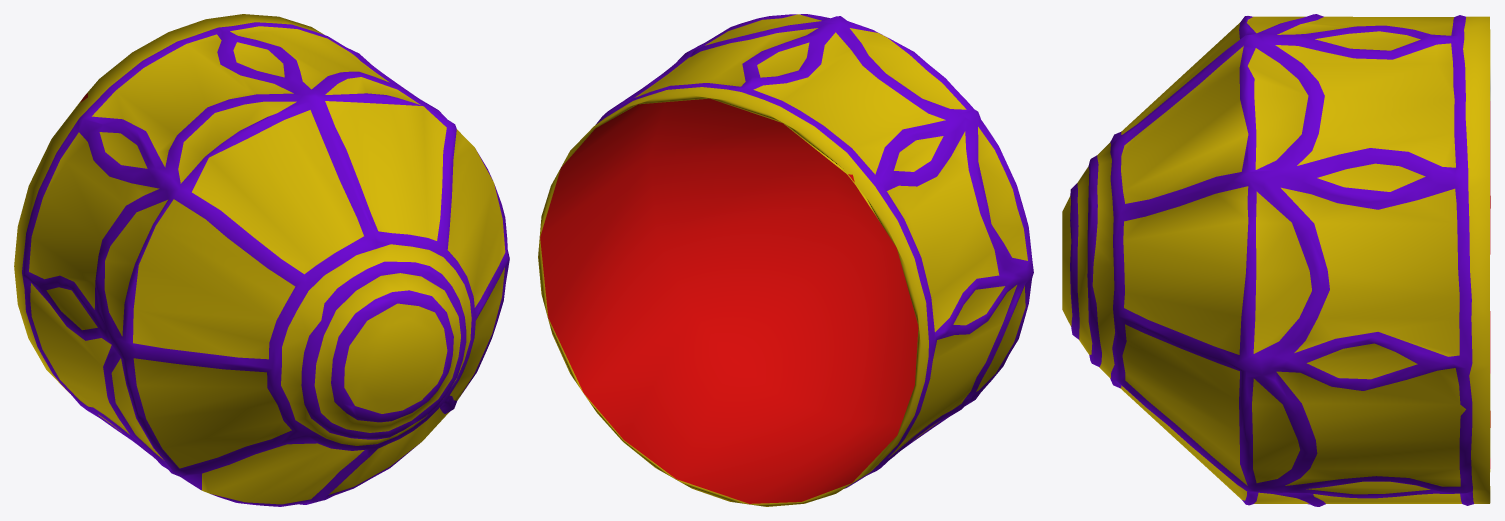
File: Tail(low_Poly).fbx
The picture shows the model from 3 angles, left to right: view 1: azimuth 30°, elevation 25°; view 2: azimuth 150°, elevation 25°; view 3: azimuth 270°, elevation 25°; orthographic projection. The views are drawn at different scales.
Visible parts, largest first — view 1: Cylinder; view 2: Cylinder; view 3: Cylinder.
Boxes of the visible parts, x1,y1,x2,y2 form: Cylinder: (14,14,509,506); Cylinder: (538,14,1033,506); Cylinder: (1062,14,1490,506).
Size of the model in its own units: 203 by 204 by 176.
